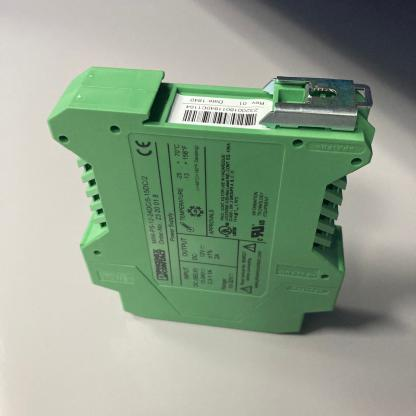SP0000011: (44, 33, 384, 363)
